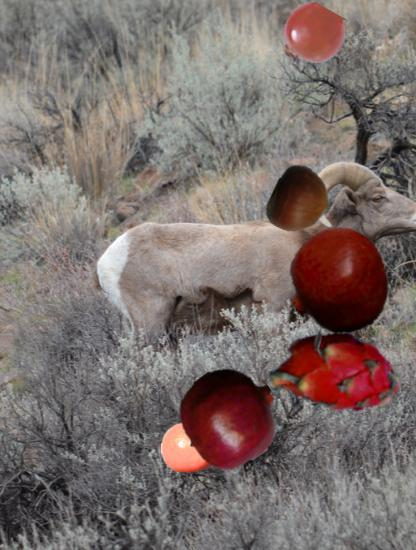Clementine: (161, 418, 221, 478)
Nut: (266, 167, 334, 235)
Pitahaya: (269, 308, 403, 442)
Pomegranate: (285, 228, 394, 337), (181, 368, 279, 466)
Redcurrant: (280, 5, 344, 69)
